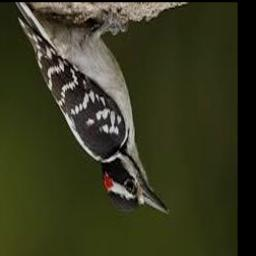Woodpecker: (14, 2, 169, 216)
